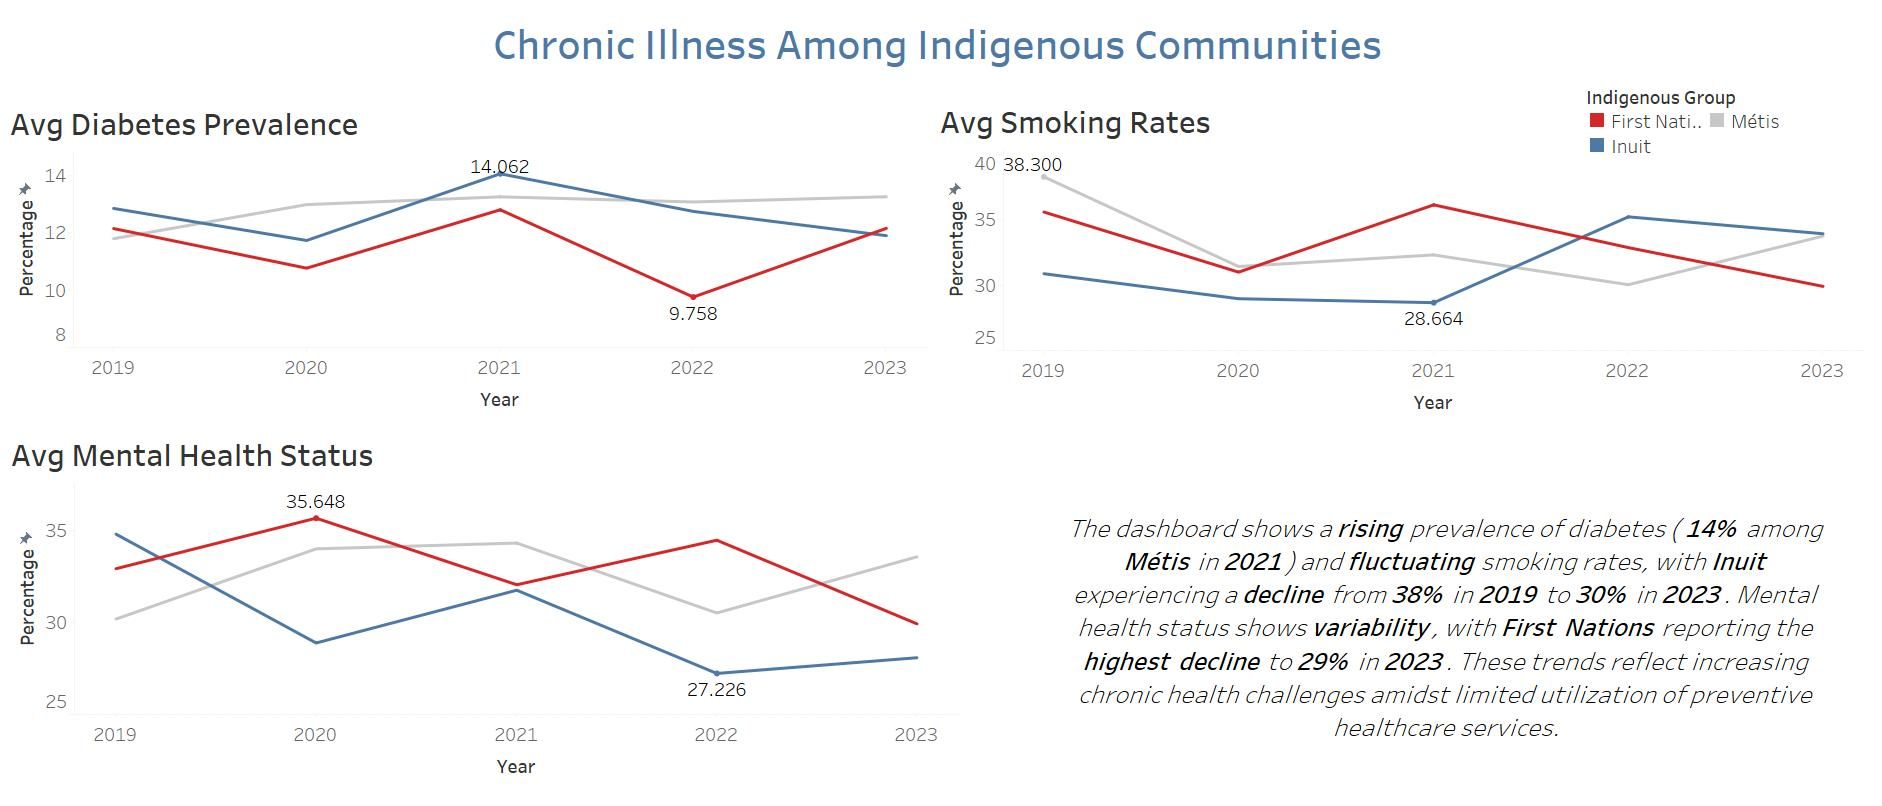

What the dashboard file says about the page in this screenshot:
{"tool":"tableau","page":{"name":"Chronic Ilness","canvas":[1000,1000],"units":"permille","ordinal":0},"visuals":[{"type":"text","box":[5.6,11.8,984.8,82.2]},{"type":"legend","title":"Diabetes","param":"[federated.1pnittl17nefze13nxv6o1q31cec].[none:Indigenous_Group:nk]","box":[842.4,101.8,139.9,120.1]},{"type":"worksheet","title":"Smoking rates","mark":"Automatic","rows":["Smoking_Rates_%"],"cols":["Year (date)"],"box":[497.2,116.2,492.4,405.5]},{"type":"worksheet","title":"Diabetes","mark":"Automatic","rows":["Diabetes_Prevalence_%"],"cols":["Year (date)"],"box":[3.1,119.6,488.7,399.8]},{"type":"worksheet","title":"Mental Health","mark":"Automatic","rows":["Mental_Health_Status_Excellent_%"],"cols":["Year (date)"],"box":[3.7,529.6,505.2,444.2]},{"type":"text","box":[561.1,627.9,414.3,306.8]}]}

Visuals, with their boxes on the dashboard's canvas, which has no fixed pixel size, in thousandths of its width and height (x1, y1, x2, y2). These are canvas units, not pixel positions in the 1882x806 screenshot, which may show the page scaled, cropped or inside an application window:
text: region(6, 12, 990, 94)
"Diabetes" legend: region(842, 102, 982, 222)
"Smoking rates" worksheet: region(497, 116, 990, 522)
"Diabetes" worksheet: region(3, 120, 492, 519)
"Mental Health" worksheet: region(4, 530, 509, 974)
text: region(561, 628, 975, 935)
